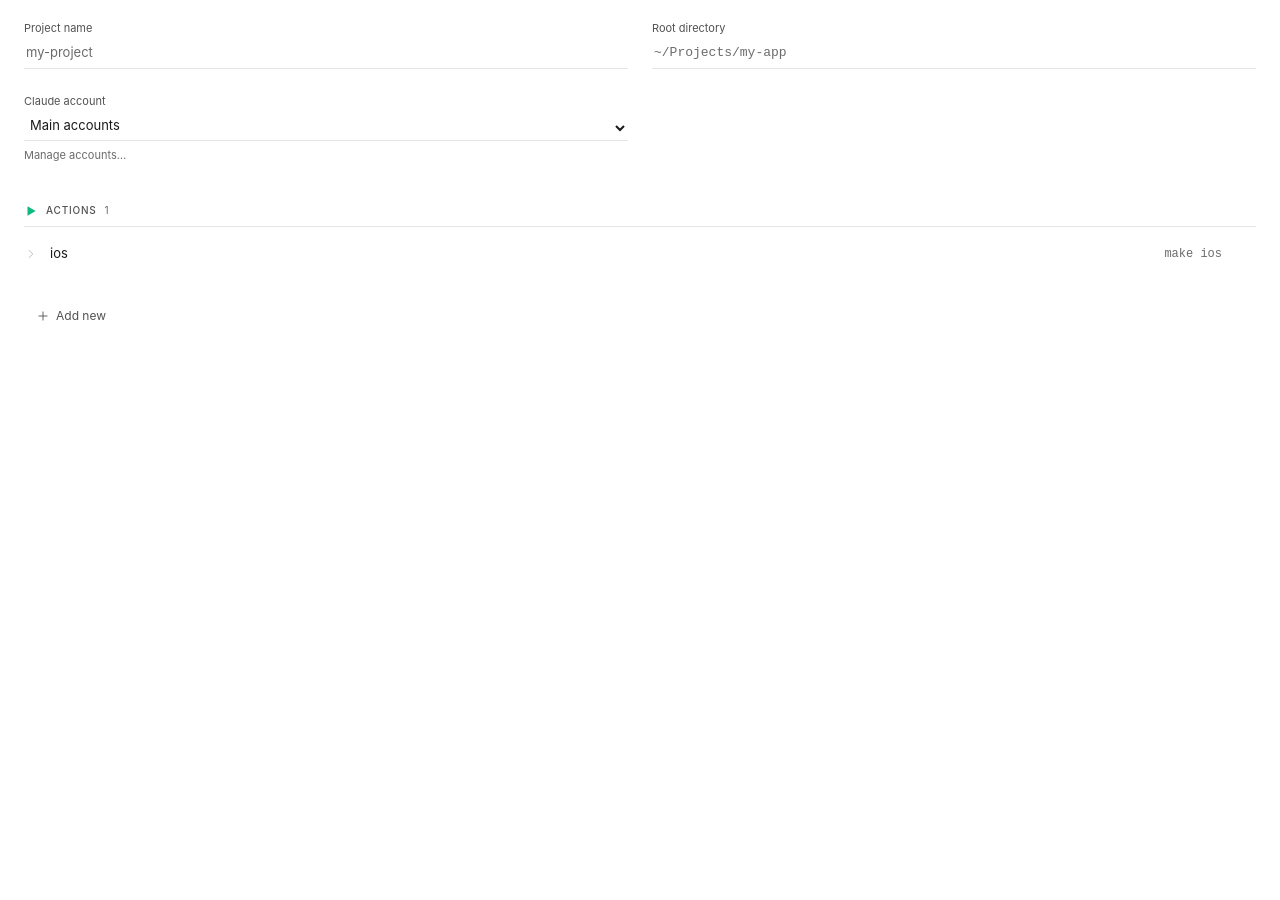
it: VisualConfigEditor › Display › shows the zone a button sits in as its own option
What coordinates should you click on to do the following:
click the button "ios make ios"
I would click on:
 (1193, 254)
Its box is [24,244,1222,264].
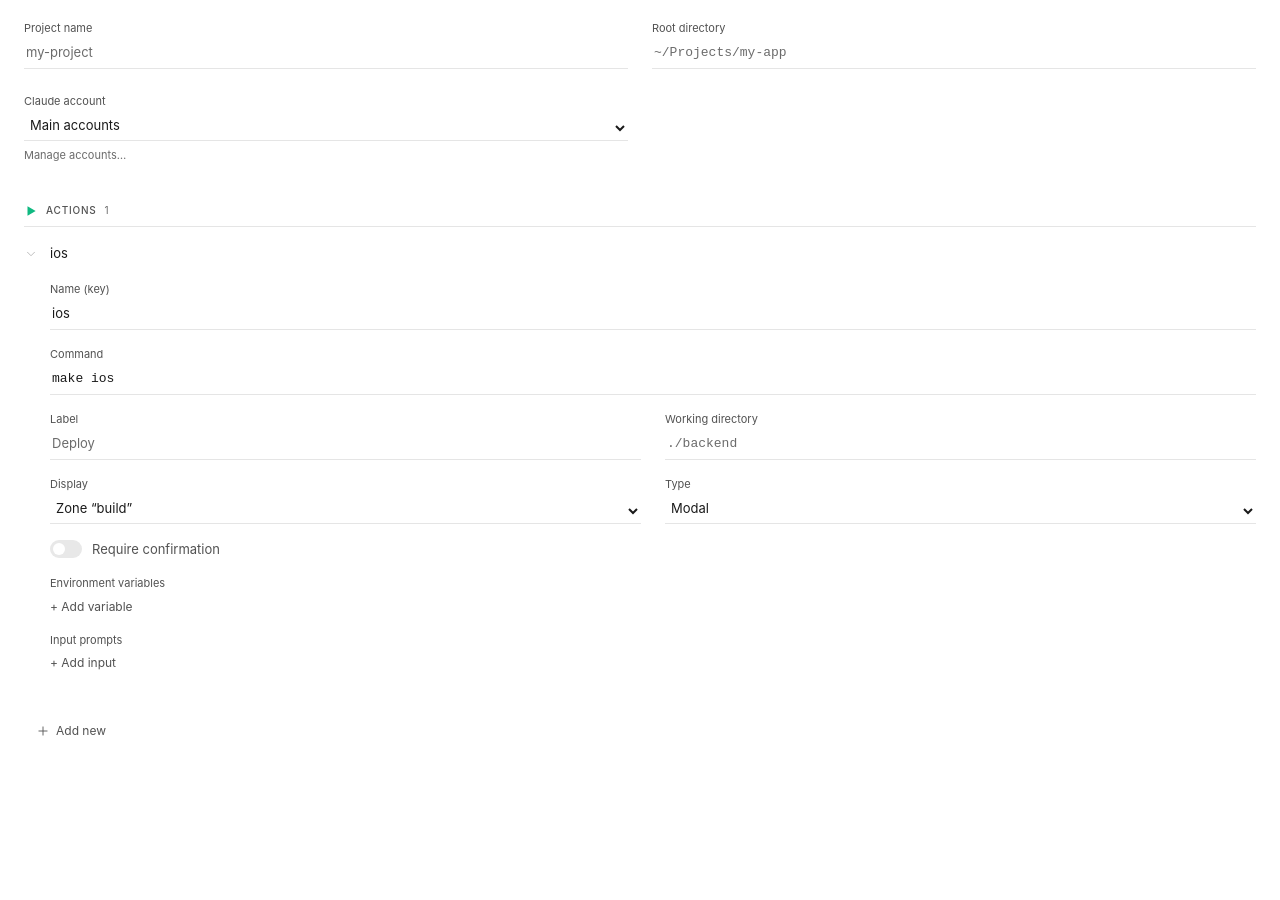
Expected: the dropdown labelled "Display" shows "Zone “build”", [50,498,641,524]
